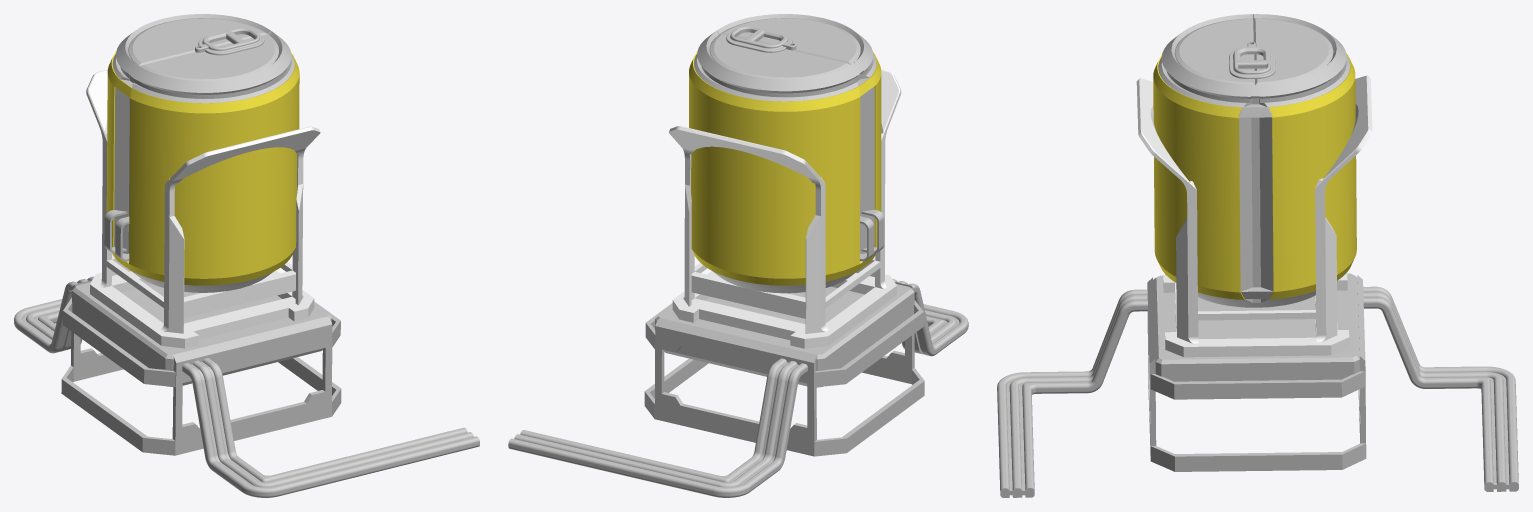
The model's file is juice_boxv3.glb.
The picture shows the model from 3 angles, left to right: view 1: azimuth 30°, elevation 25°; view 2: azimuth 150°, elevation 25°; view 3: azimuth 270°, elevation 25°; orthographic projection. The views are drawn at different scales.
Visible parts, largest first — view 1: Body88, Body87, Body86, Body85, Body81, Body82; view 2: Body88, Body87, Body86, Body85, Body82, Body81; view 3: Body88, Body85, Body87, Body86, Body81, Body82.
Part boxes in pixels (bbox=[...]): Body88: bbox=[106, 51, 299, 285]; Body87: bbox=[61, 280, 341, 455]; Body86: bbox=[86, 69, 320, 348]; Body85: bbox=[112, 14, 294, 292]; Body81: bbox=[182, 358, 479, 497]; Body82: bbox=[14, 276, 93, 353]; Body88: bbox=[689, 52, 881, 285]; Body87: bbox=[644, 282, 924, 456]; Body86: bbox=[669, 70, 901, 348]; Body85: bbox=[694, 14, 876, 293]; Body82: bbox=[508, 358, 807, 497]; Body81: bbox=[893, 279, 968, 356]; Body88: bbox=[1153, 53, 1356, 299]; Body85: bbox=[1158, 14, 1350, 307]; Body87: bbox=[1147, 273, 1366, 471]; Body86: bbox=[1136, 75, 1372, 357]; Body81: bbox=[997, 289, 1147, 497]; Body82: bbox=[1363, 286, 1518, 491].
Size of the model in its own units: 27.61 by 36.5 by 45.98.
